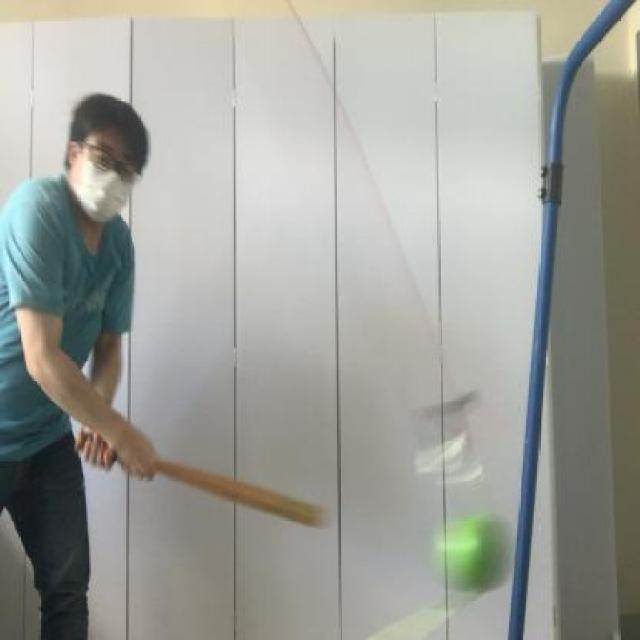baseball: (428, 512, 515, 600)
